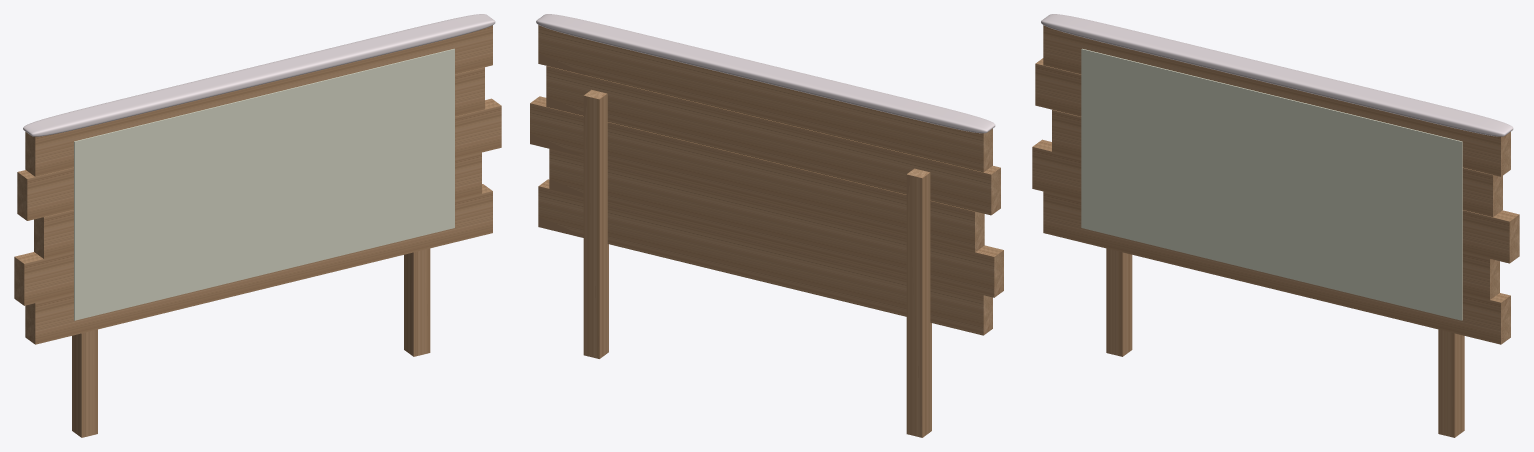
Rendered from board.fbx.
3 renders of one model, left to right at view 1: azimuth 30°, elevation 25°; view 2: azimuth 150°, elevation 25°; view 3: azimuth 330°, elevation 25°, orthographic. The views are drawn at different scales.
Visible parts, largest first — view 1: pCube13, pCube7, pCube14, pCube10, pCube6, pCube9, pCube8, pCube12, pCube11; view 2: pCube9, pCube6, pCube8, pCube7, pCube10, pCube14, pCube11, pCube12; view 3: pCube13, pCube7, pCube14, pCube10, pCube8, pCube6, pCube9, pCube12, pCube11.
Boxes of the visible parts, x1,y1,x2,y2 form: pCube13: (74, 48, 454, 320); pCube7: (25, 184, 492, 344); pCube14: (23, 14, 495, 136); pCube10: (25, 25, 492, 176); pCube6: (14, 152, 481, 305); pCube9: (17, 67, 484, 220); pCube8: (34, 98, 501, 258); pCube12: (404, 248, 430, 356); pCube11: (72, 329, 97, 437); pCube9: (546, 66, 1000, 215); pCube6: (549, 148, 1003, 297); pCube8: (530, 96, 984, 252); pCube7: (538, 179, 992, 335); pCube10: (538, 25, 992, 172); pCube14: (536, 14, 995, 133); pCube11: (906, 168, 931, 437); pCube12: (583, 89, 608, 358); pCube13: (1081, 48, 1462, 320); pCube7: (1043, 191, 1510, 344); pCube14: (1041, 14, 1513, 136); pCube10: (1043, 25, 1510, 176); pCube8: (1052, 110, 1519, 263); pCube6: (1032, 139, 1499, 300); pCube9: (1035, 58, 1502, 216); pCube12: (1438, 329, 1464, 437); pCube11: (1106, 248, 1132, 356).
Bounding box in the file's own units: 4.31 × 2.82 × 0.3152.
